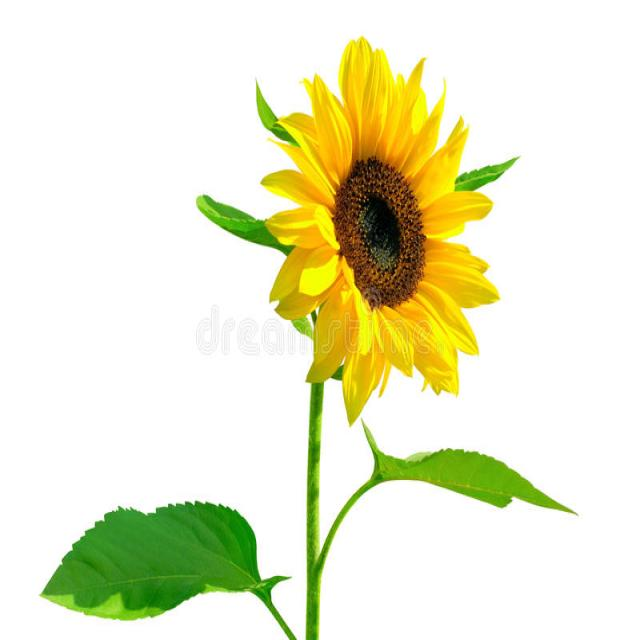sunflower: (233, 25, 519, 448)
